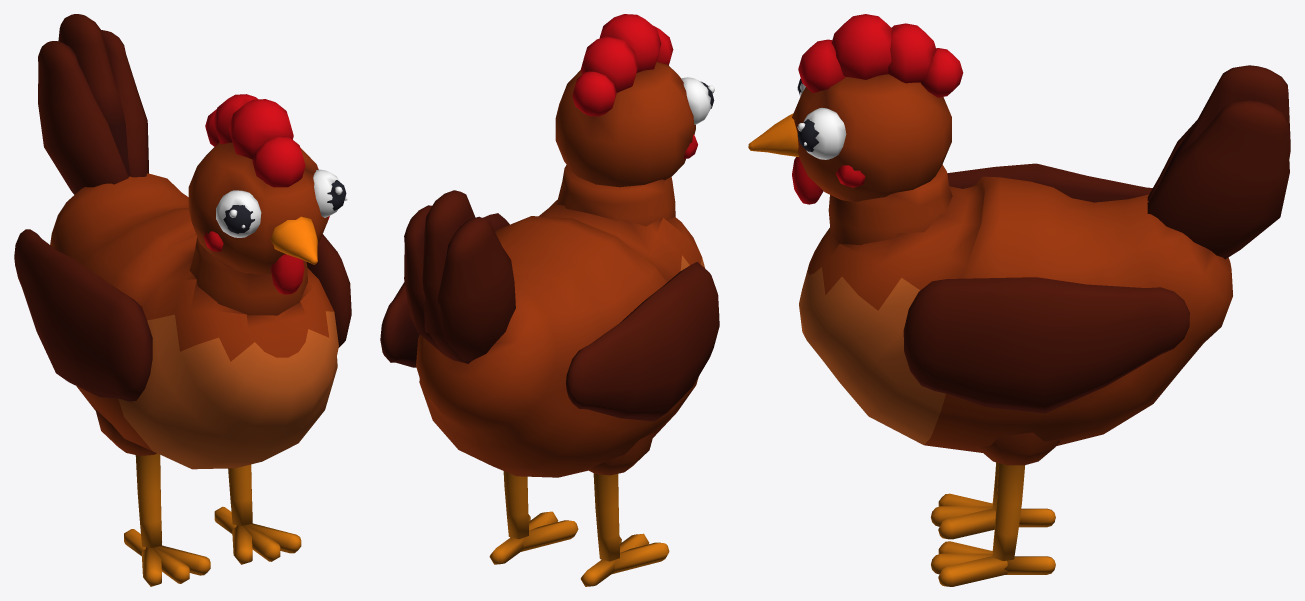
Rendered from Chicken.fbx.
The picture shows the model from 3 angles, left to right: view 1: azimuth 30°, elevation 25°; view 2: azimuth 150°, elevation 25°; view 3: azimuth 270°, elevation 25°; orthographic projection. The views are drawn at different scales.
Parts seen in each view (by area): view 1: Chicken, Head, Tail; view 2: Chicken, Head, Tail; view 3: Chicken, Head, Tail.
Boxes of the visible parts, left/top/right/bottom form: Chicken: left=14, top=173, right=351, bottom=586; Head: left=188, top=94, right=347, bottom=294; Tail: left=38, top=14, right=148, bottom=194; Chicken: left=380, top=164, right=719, bottom=586; Head: left=555, top=14, right=714, bottom=187; Tail: left=404, top=190, right=515, bottom=363; Chicken: left=799, top=163, right=1232, bottom=586; Head: left=748, top=14, right=963, bottom=204; Tail: left=1147, top=65, right=1290, bottom=259.
Bounding box in the file's own units: 0.2581 × 0.4706 × 0.4335.
